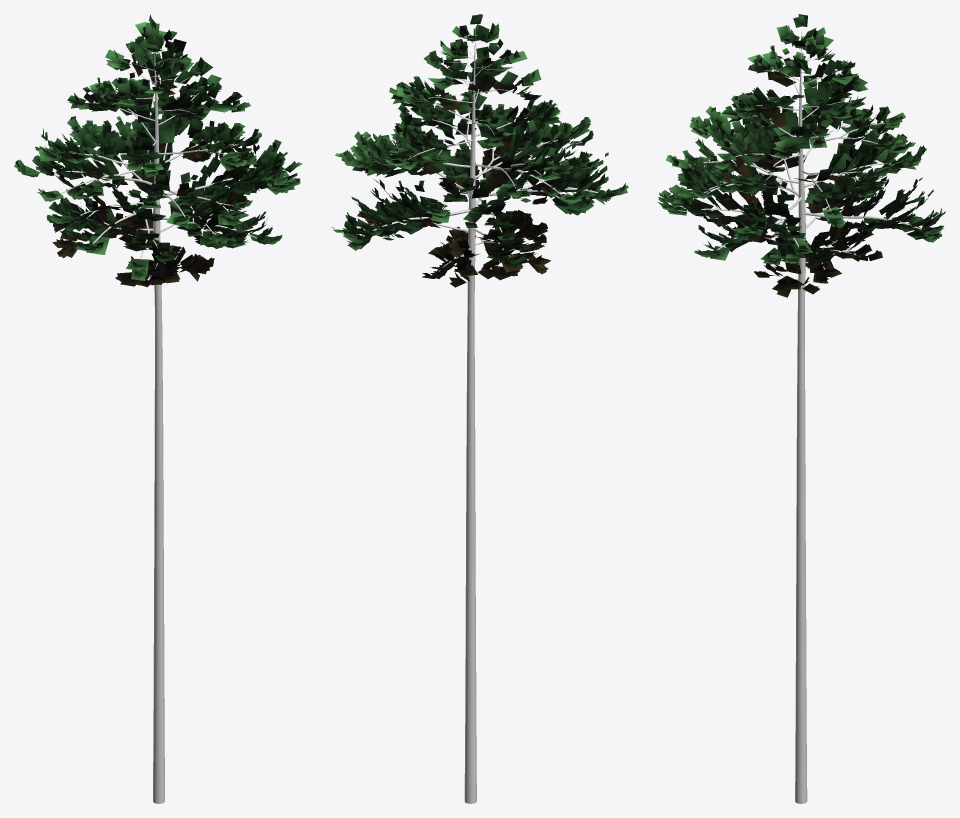
Rendered from PW3DVT_HeroPine_2_lod0.fbx.
3 views of the same model, side by side, from view 1: azimuth 30°, elevation 25°; view 2: azimuth 150°, elevation 25°; view 3: azimuth 270°, elevation 25° (orthographic).
Parts seen in each view (by area): view 1: leaves.005, tree.004, tree.005; view 2: leaves.005, tree.004, tree.005; view 3: leaves.005, tree.004, tree.005.
Part boxes in pixels (x1,y1,x2,y2): leaves.005: (14, 14, 302, 287); tree.004: (153, 36, 164, 803); tree.005: (45, 58, 256, 277); leaves.005: (332, 14, 628, 287); tree.004: (464, 29, 476, 803); tree.005: (363, 41, 597, 271); leaves.005: (658, 14, 945, 297); tree.004: (795, 32, 807, 803); tree.005: (678, 48, 922, 269).
Bounding box in the file's own units: 7.29 × 21.16 × 7.07.
